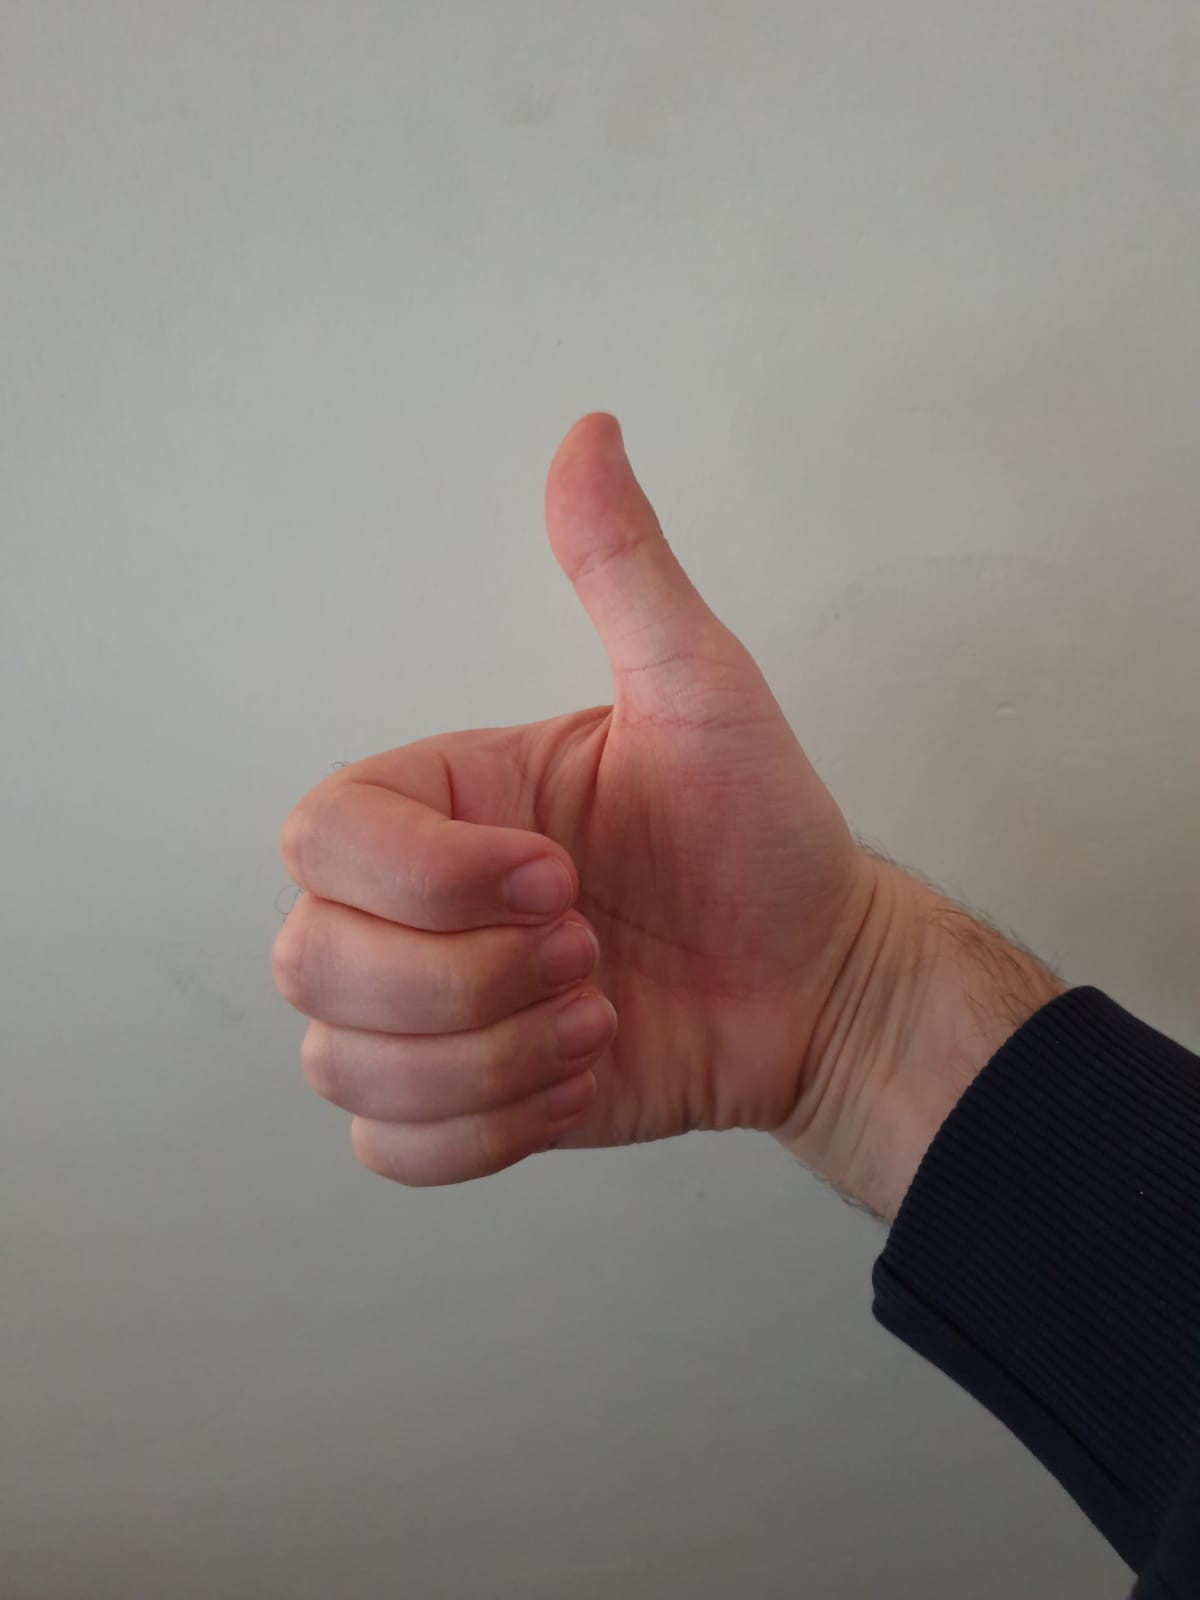Tick: (262, 394, 926, 1212)
